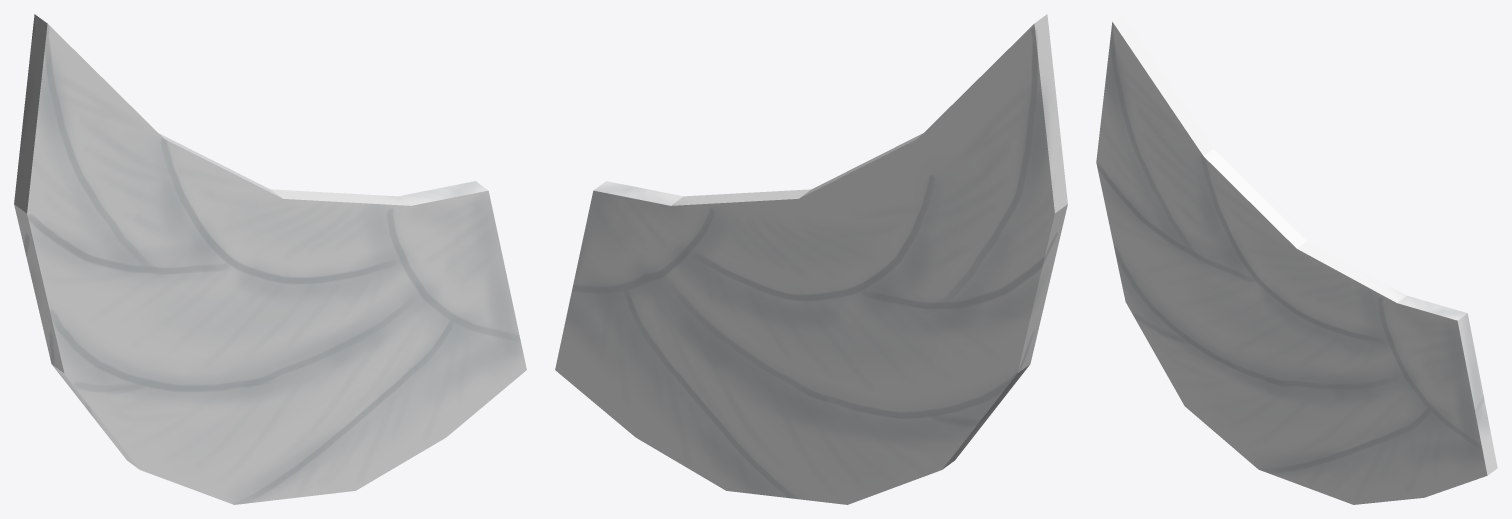
File: Pot_AirFeat_R_arm01.fbx
3 renders of one model, left to right at view 1: azimuth 30°, elevation 25°; view 2: azimuth 150°, elevation 25°; view 3: azimuth 330°, elevation 25°, orthographic. The views are drawn at different scales.
Parts seen in each view (by area): view 1: Pot_Feats_air_R_arm01; view 2: Pot_Feats_air_R_arm01; view 3: Pot_Feats_air_R_arm01.
Boxes of the visible parts, box(x1,y1,x2,y2) form: Pot_Feats_air_R_arm01: box(14, 14, 526, 504); Pot_Feats_air_R_arm01: box(555, 14, 1067, 504); Pot_Feats_air_R_arm01: box(1096, 14, 1497, 504).
Size of the model in its own units: 37.63 by 39.03 by 1.7.
Materials: 1 (1 with a texture image).
